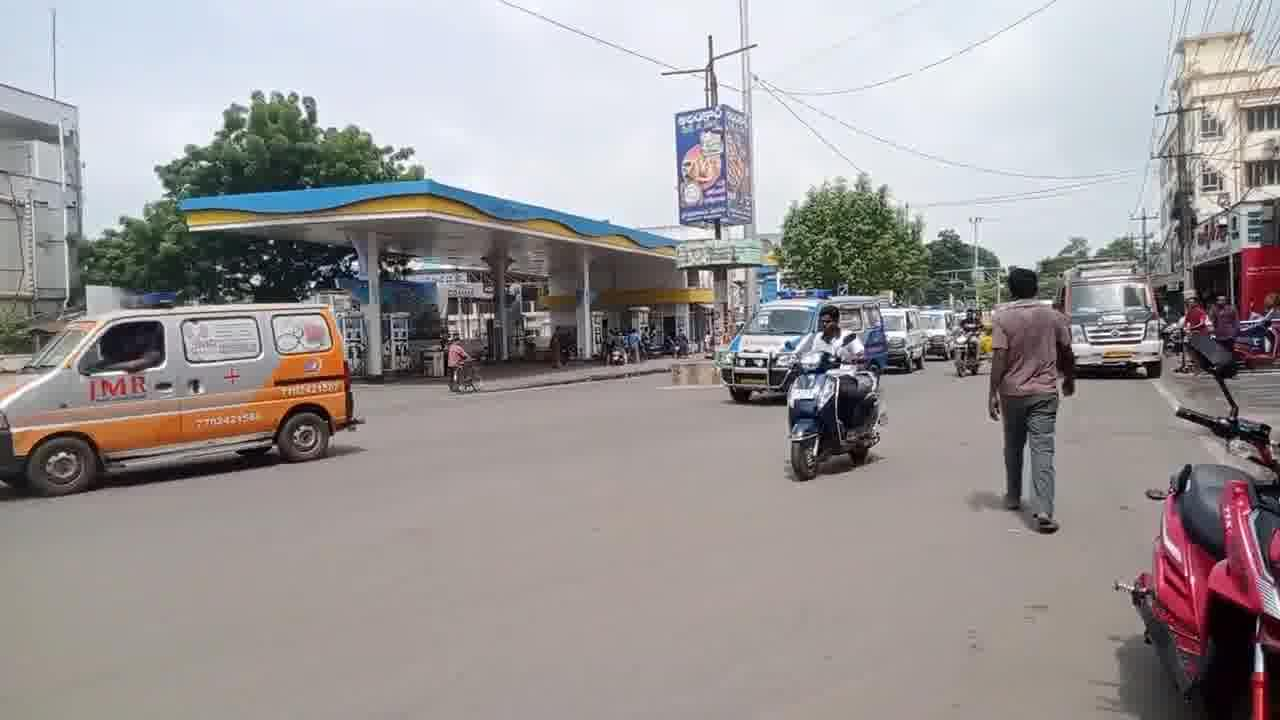AMBULANCE: (0, 297, 382, 472), (1060, 254, 1176, 380)
